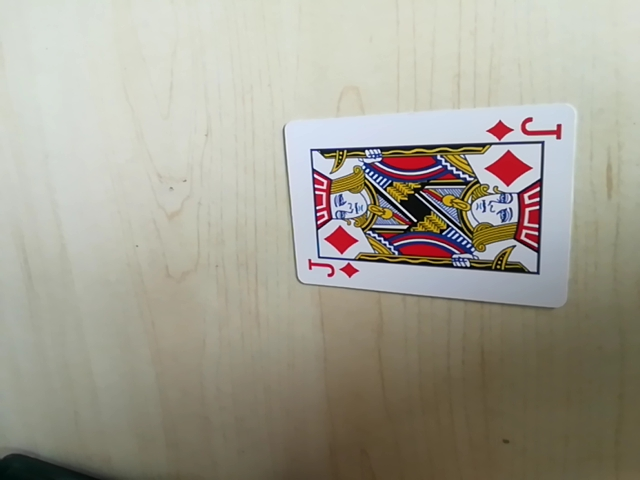fk j: (487, 115, 566, 144), (302, 259, 358, 287)
